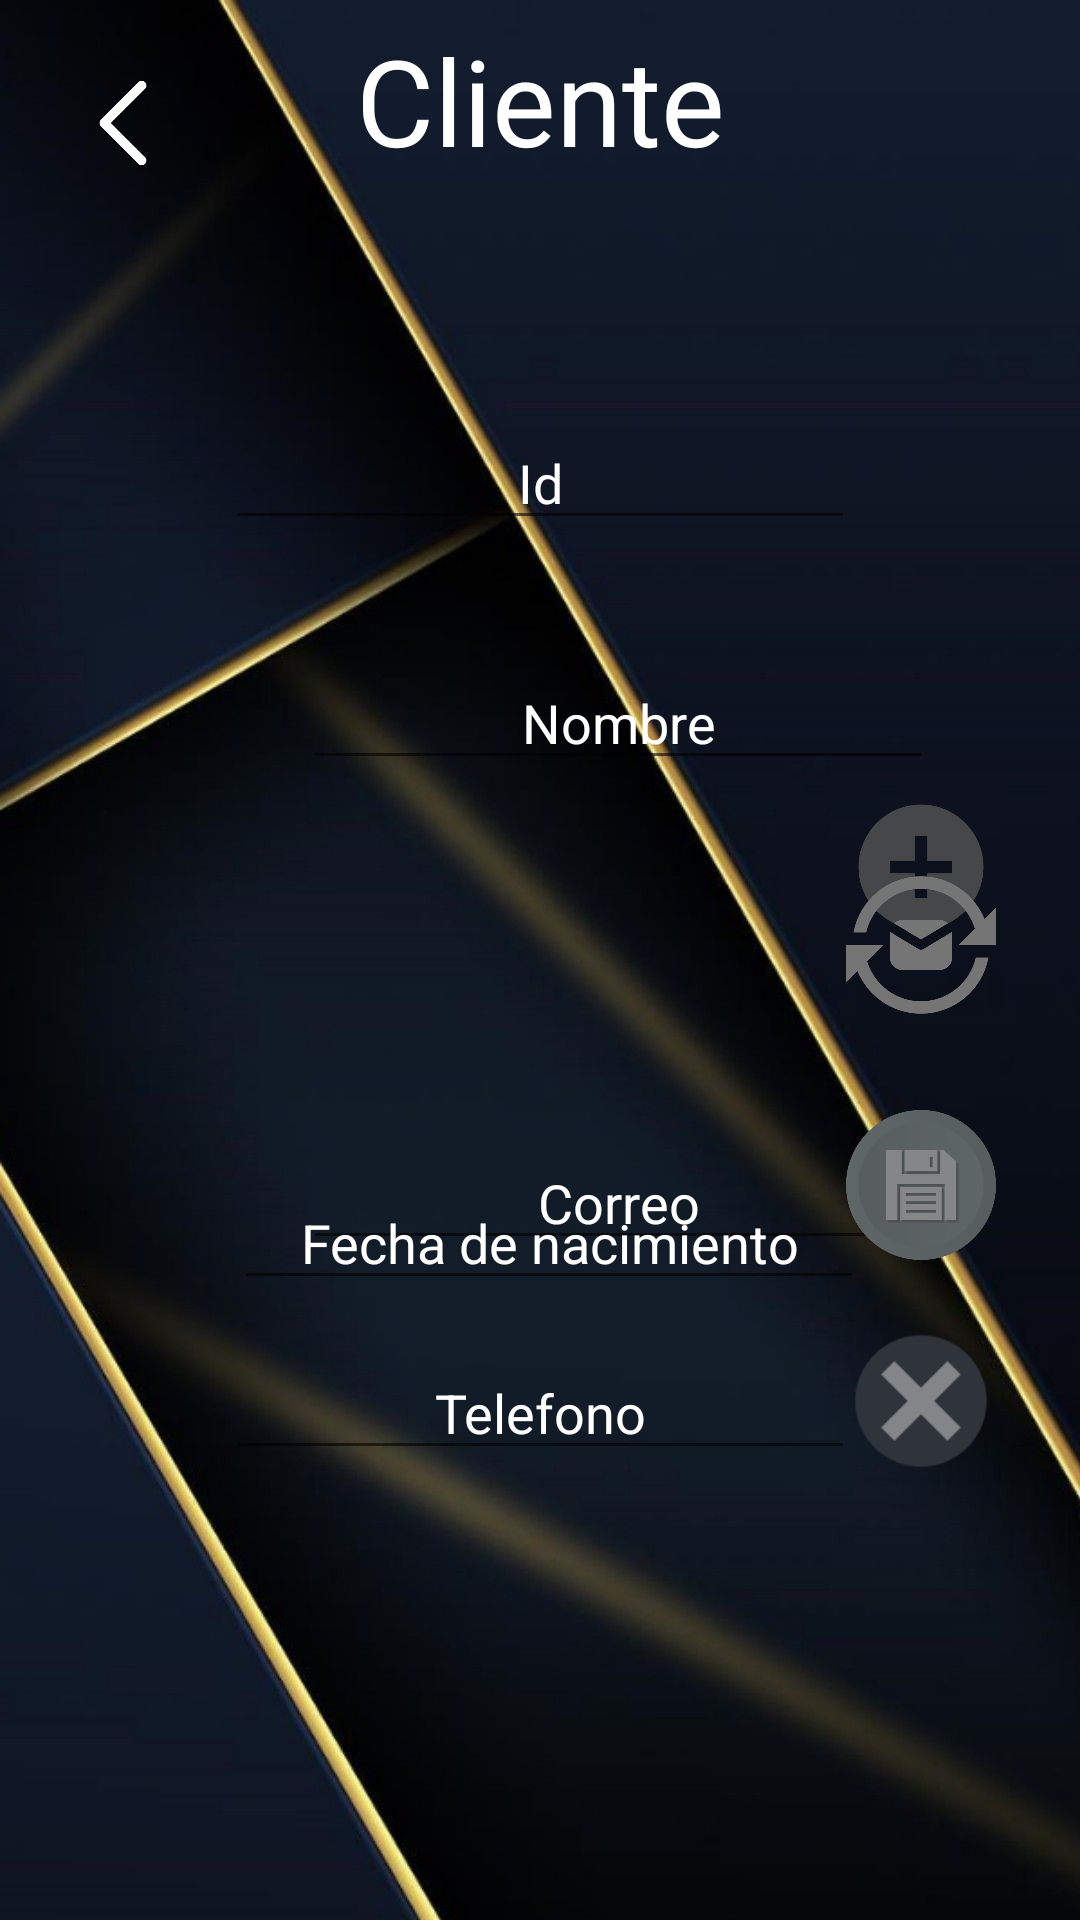

Icons on this 1080px×1920px Android screen, each with the point to tap as [x,y]:
actualizar: [921,942]
eliminar: [921,1397]
guardar: [921,1185]
